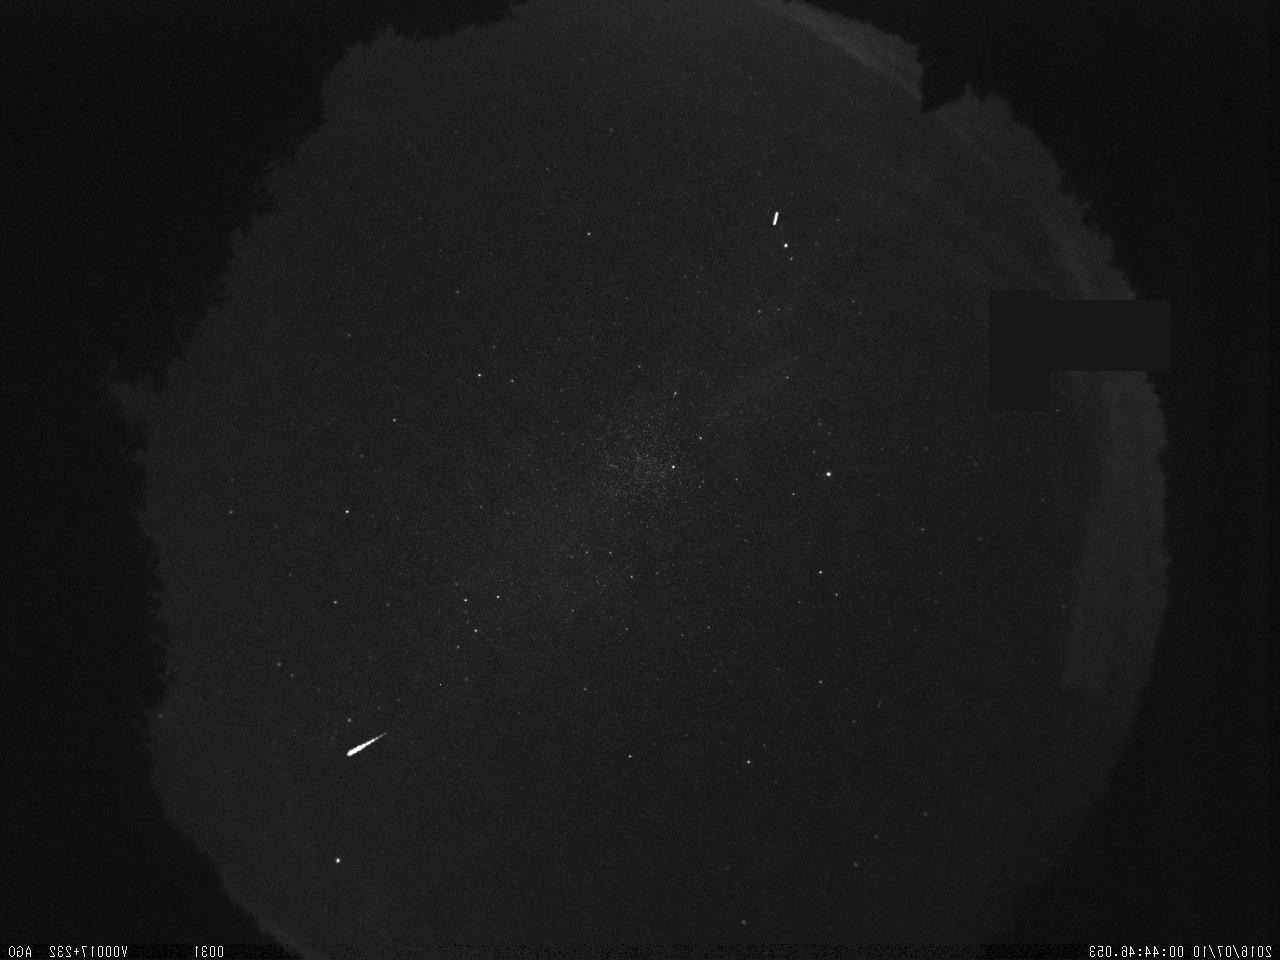meteor: (345, 724, 392, 769)
satelite: (766, 204, 783, 238)
